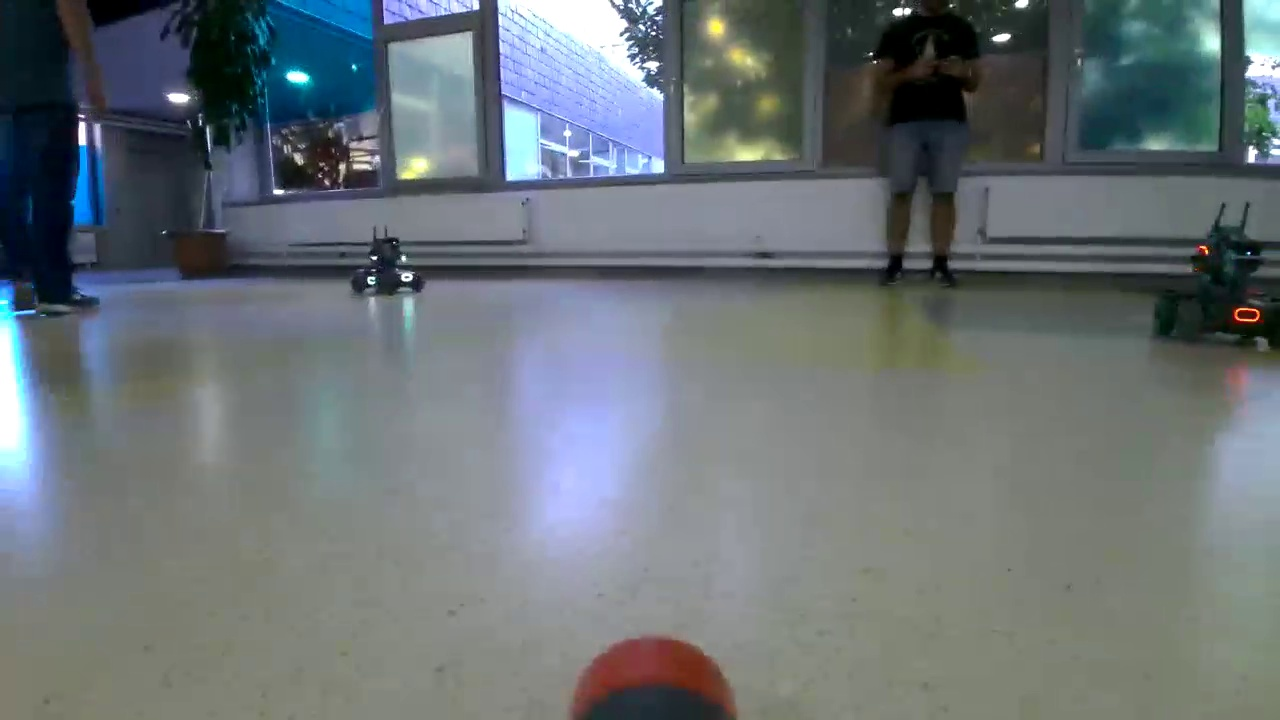robot: (1151, 228, 1280, 351), (349, 239, 428, 295)
